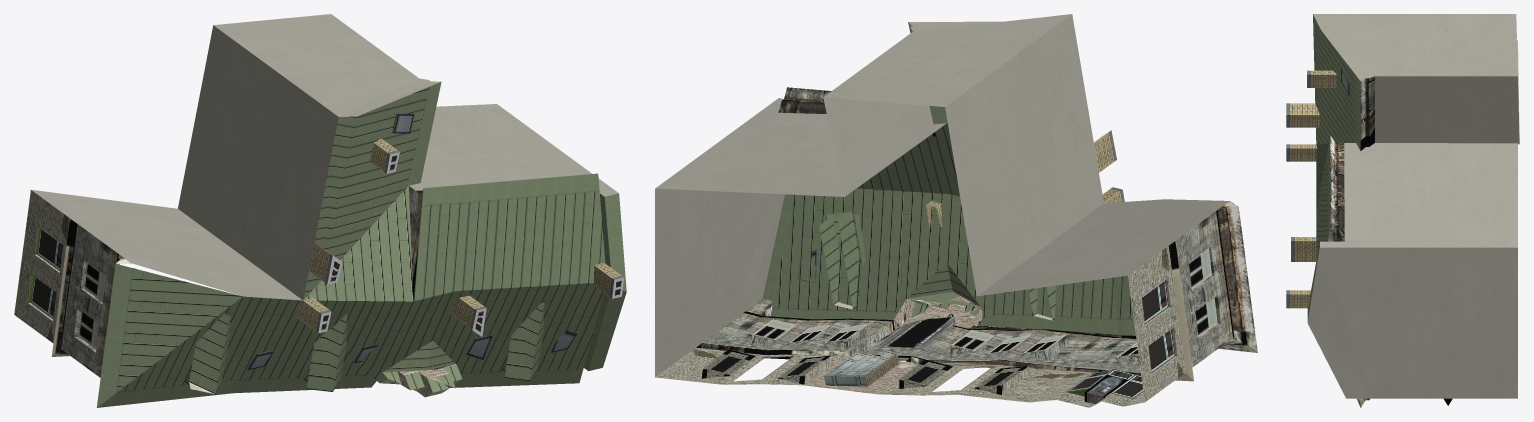
File: Viru21-origo.obj
3 views of the same model, side by side, from view 1: azimuth 30°, elevation 25°; view 2: azimuth 150°, elevation 25°; view 3: azimuth 270°, elevation 25° (orthographic). The views are drawn at different scales.
Visible parts, largest first — view 1: Viru21; view 2: Viru21; view 3: Viru21.
Boxes of the visible parts, left/top/right/bottom form: Viru21: left=14, top=14, right=626, bottom=407; Viru21: left=655, top=14, right=1257, bottom=407; Viru21: left=1286, top=14, right=1519, bottom=407.
Size of the model in its own units: 27.94 by 19 by 14.
